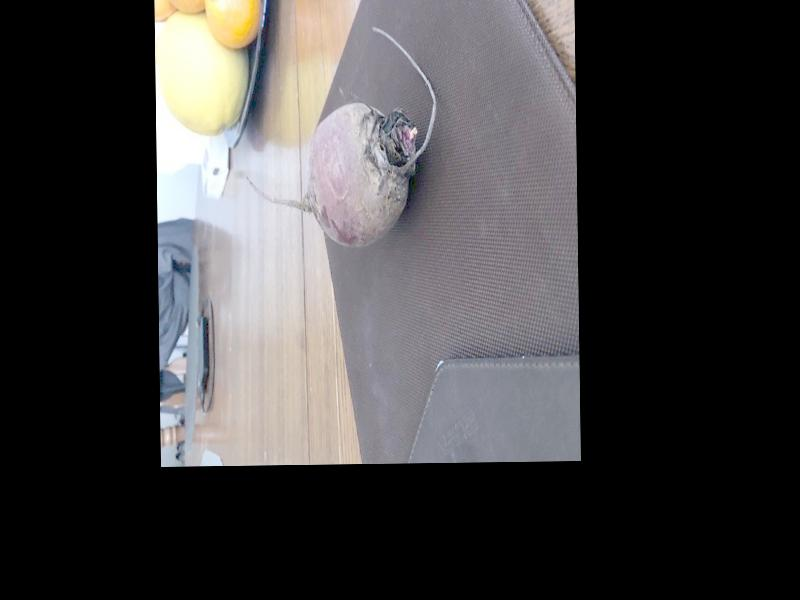Beet: (243, 25, 438, 249)
